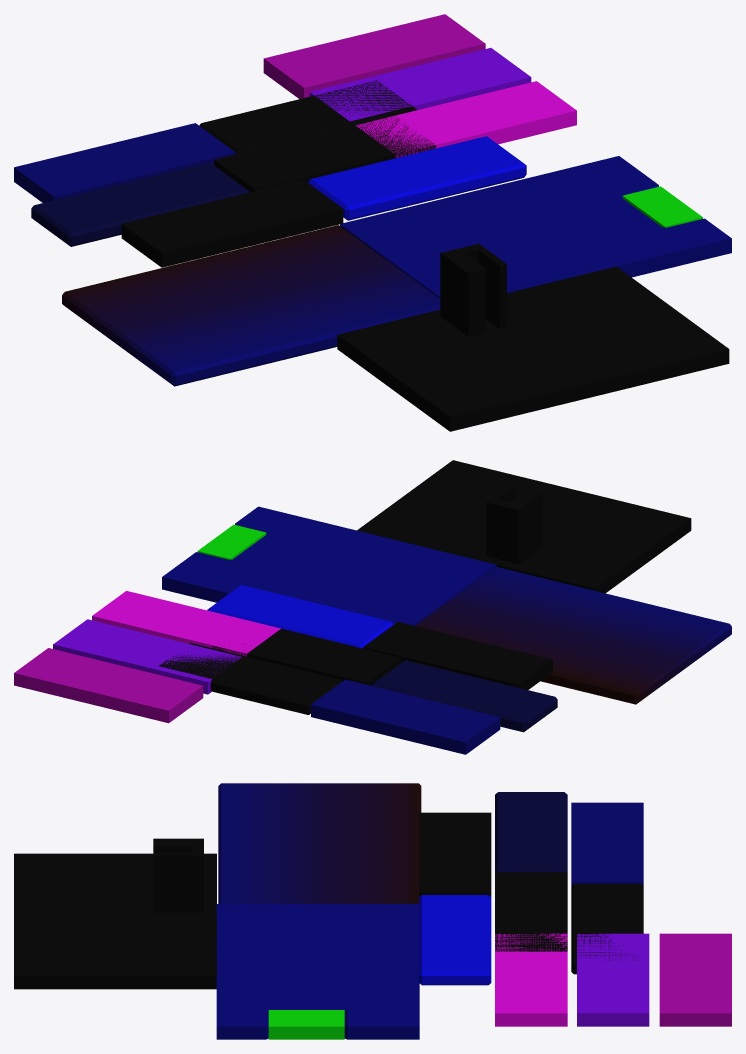
Rendered from vertexBluedifferentlevelshighlight.fbx.
3 views of the same model, one above another, from view 1: azimuth 30°, elevation 25°; view 2: azimuth 150°, elevation 25°; view 3: azimuth 270°, elevation 25° (orthographic). The views are drawn at different scales.
Visible parts, largest first — view 1: obj4.003; view 2: obj4.003; view 3: obj4.003.
Part boxes in pixels (<box>): obj4.003: <box>14,14,731,431</box>; obj4.003: <box>14,460,731,754</box>; obj4.003: <box>14,783,731,1039</box>.
Bounding box in the file's own units: 399 × 53.44 × 495.
